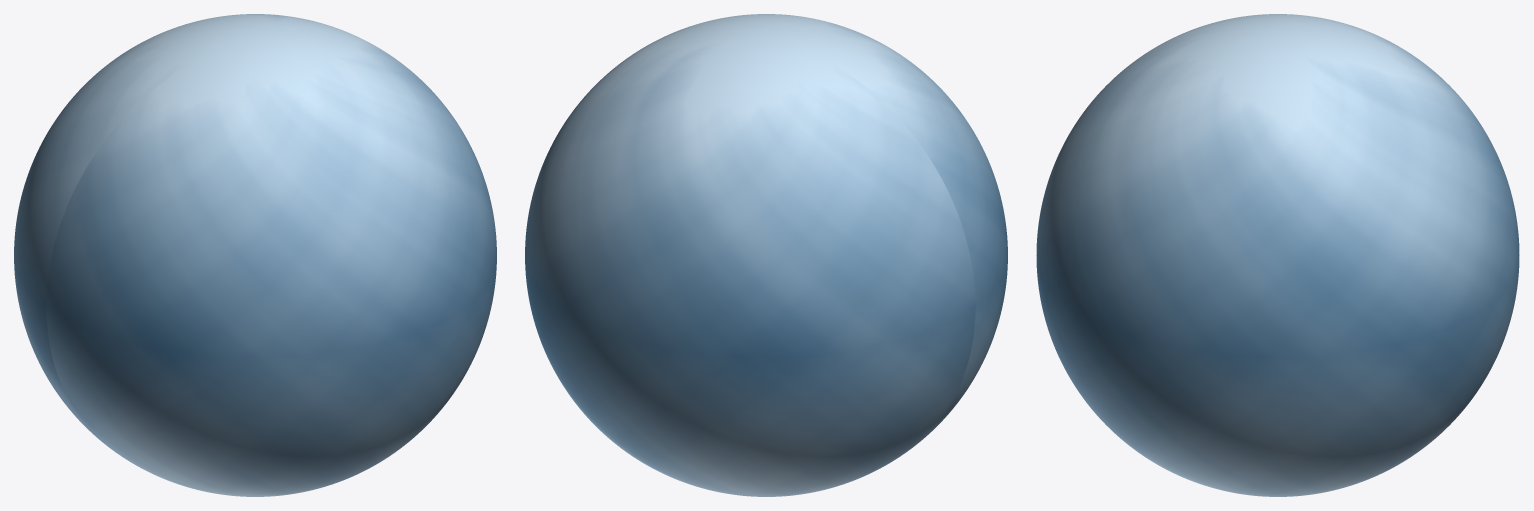
File: planet_glacius.glb
The picture shows the model from 3 angles, left to right: view 1: azimuth 30°, elevation 25°; view 2: azimuth 150°, elevation 25°; view 3: azimuth 270°, elevation 25°; orthographic projection.
Visible parts, largest first — view 1: Glacius_Surface; view 2: Glacius_Surface; view 3: Glacius_Surface.
Boxes of the visible parts, bbox=[...] form: Glacius_Surface: bbox=[14, 14, 496, 496]; Glacius_Surface: bbox=[525, 14, 1007, 496]; Glacius_Surface: bbox=[1036, 14, 1519, 496].
Size of the model in its own units: 182 by 182 by 182.
Materials: 1 (1 with a texture image).
